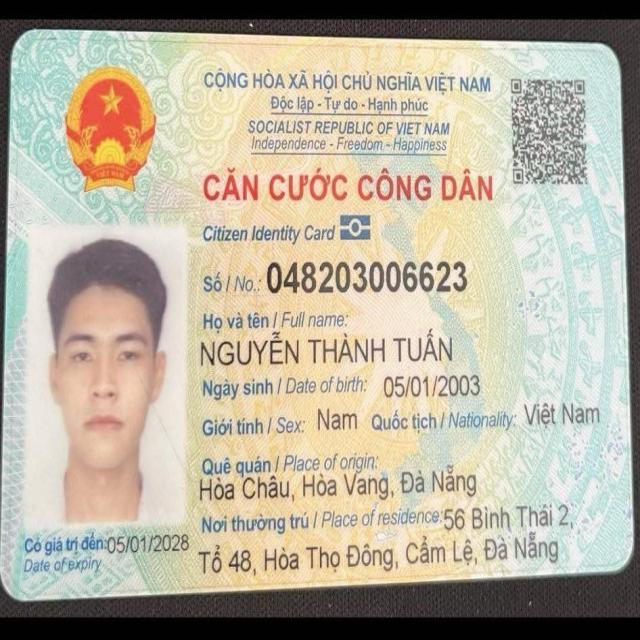current_place: (193, 528, 560, 574), (438, 499, 569, 532)
dob: (375, 369, 485, 403)
expire_date: (104, 531, 190, 559)
gender: (312, 401, 359, 436)
id: (266, 252, 470, 298)
name: (198, 328, 452, 367)
nationality: (520, 393, 602, 431)
origin_place: (195, 462, 481, 502)
